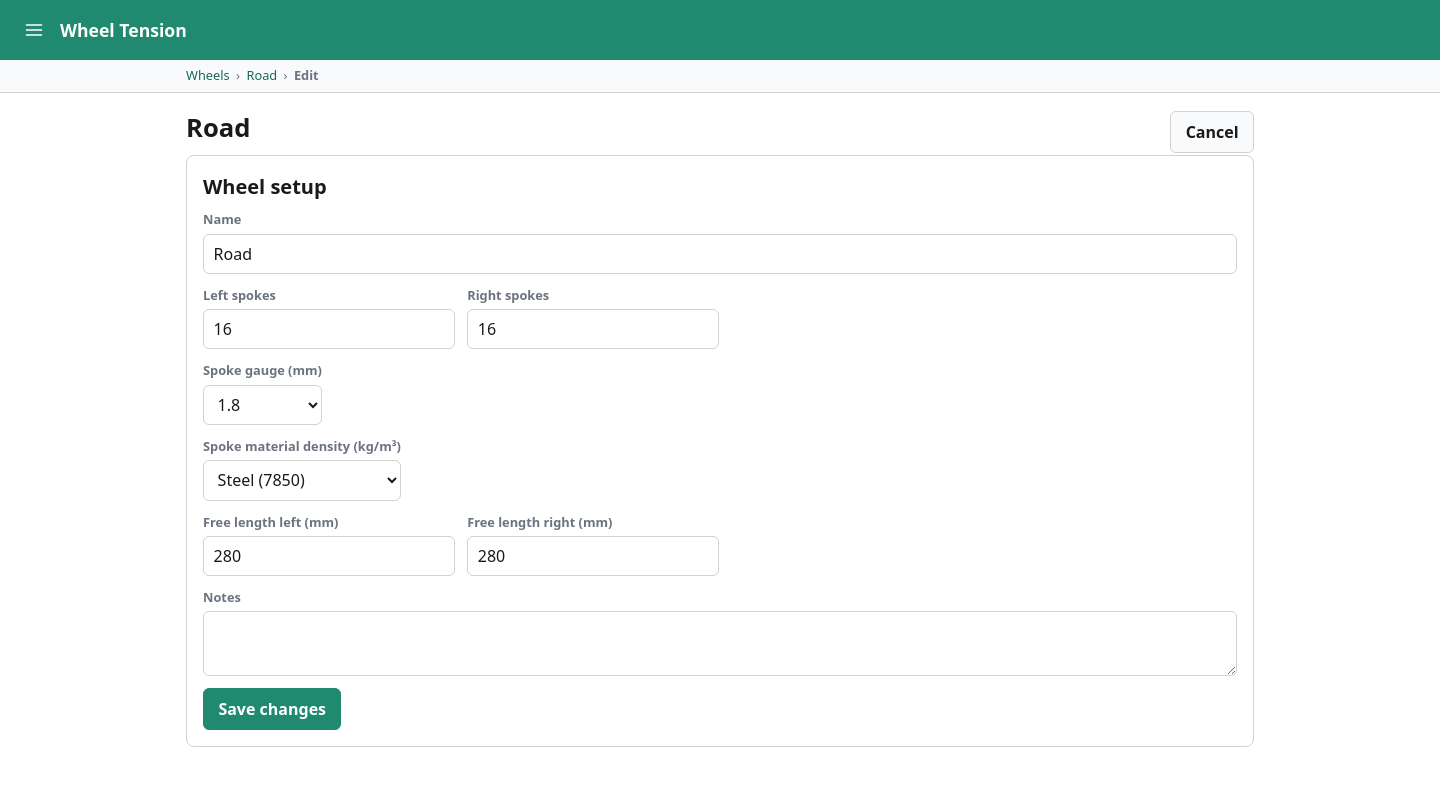
Test case: WheelEditPage › saves and returns to the display view
The image size is (1440, 810).
Replace the text in the field labelled "Name" with "Gravel" at (720,254), box [203, 234, 1237, 274]
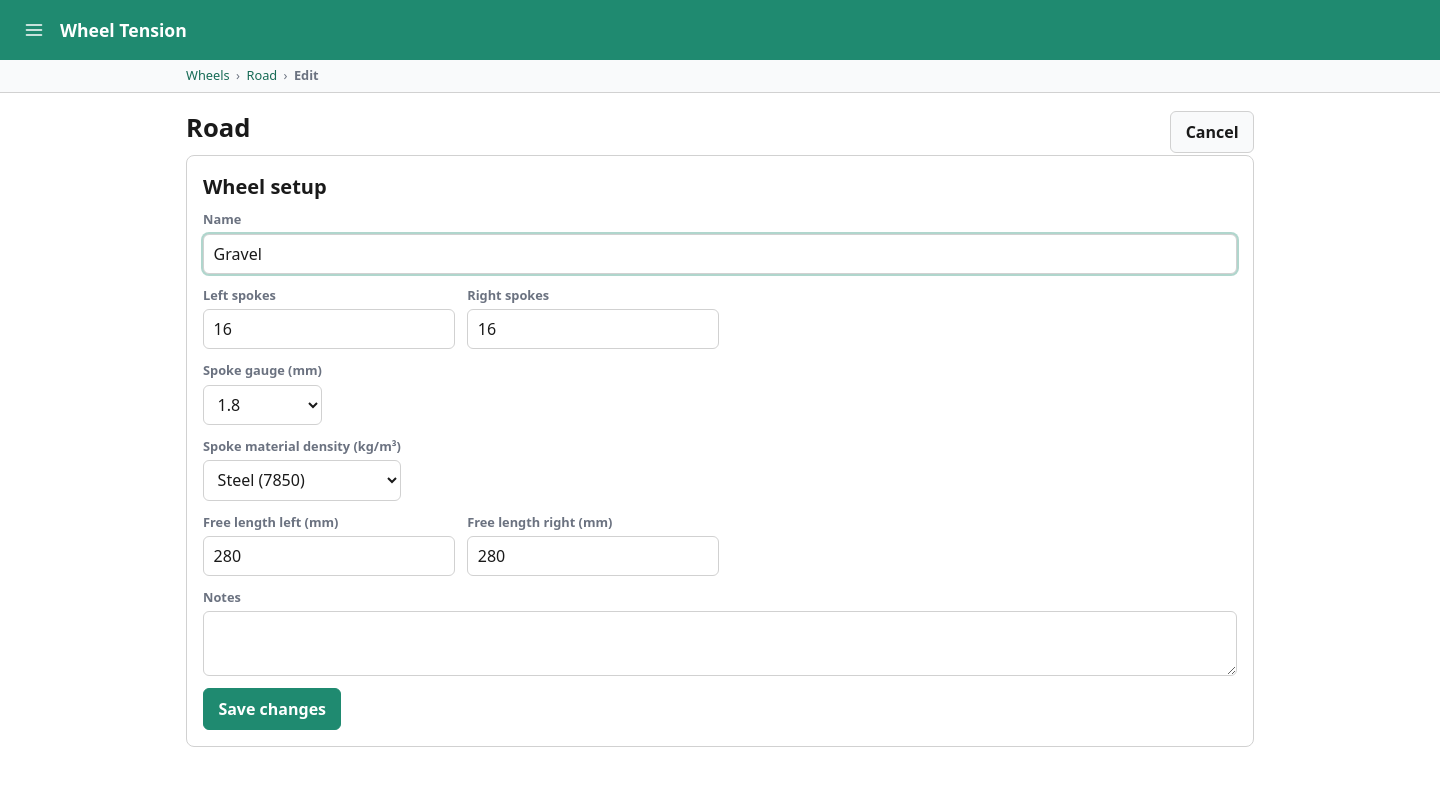
Click the button "Save changes" at (272,709), box [203, 688, 341, 730]
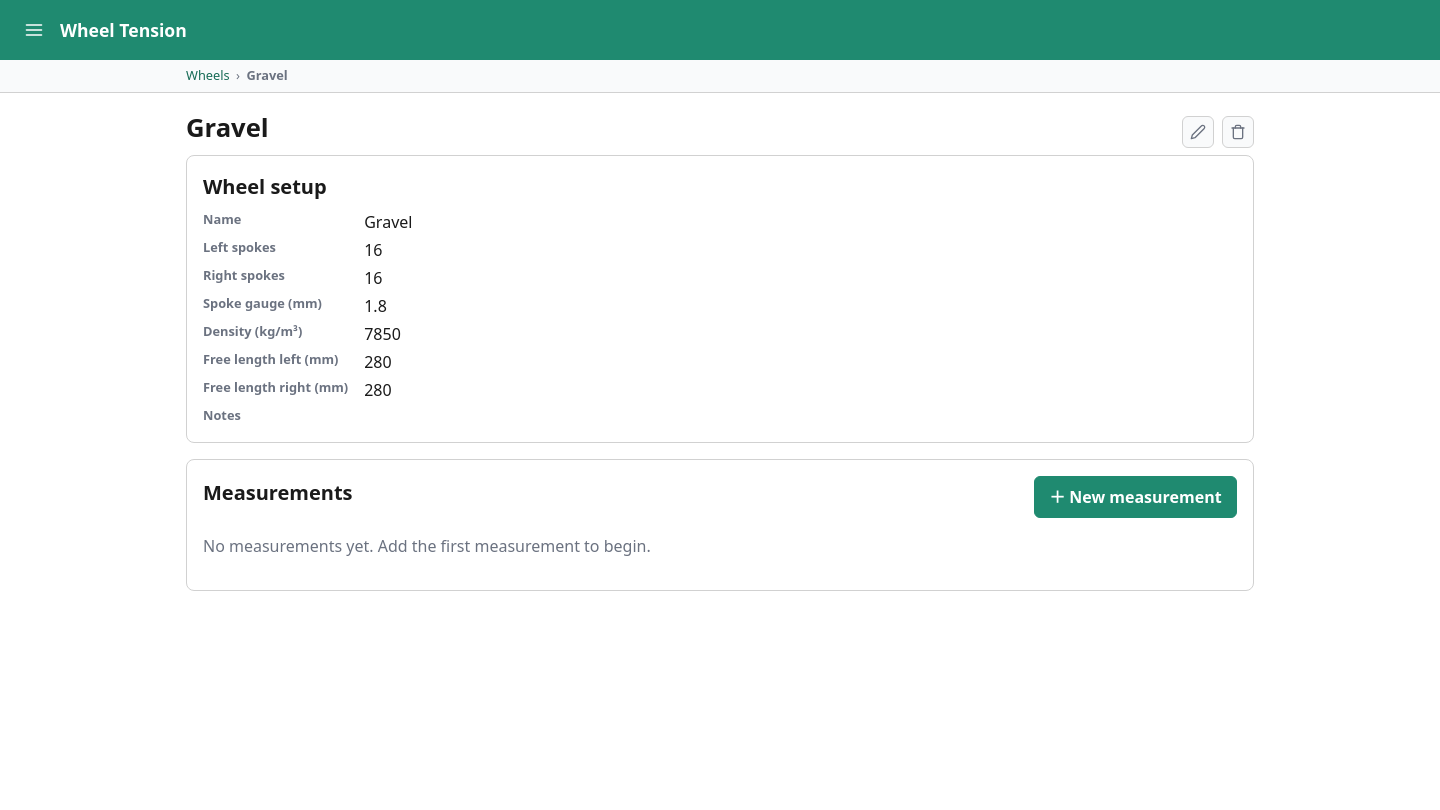
Expected: the heading "Gravel" is shown, [186, 109, 269, 147]
